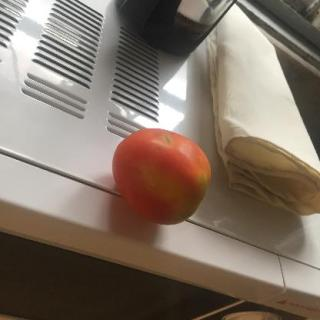Tomat: (101, 110, 223, 242)
